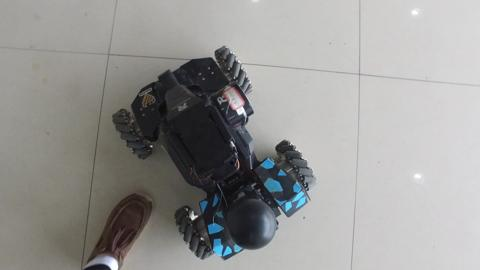chariot: (110, 40, 307, 241)
